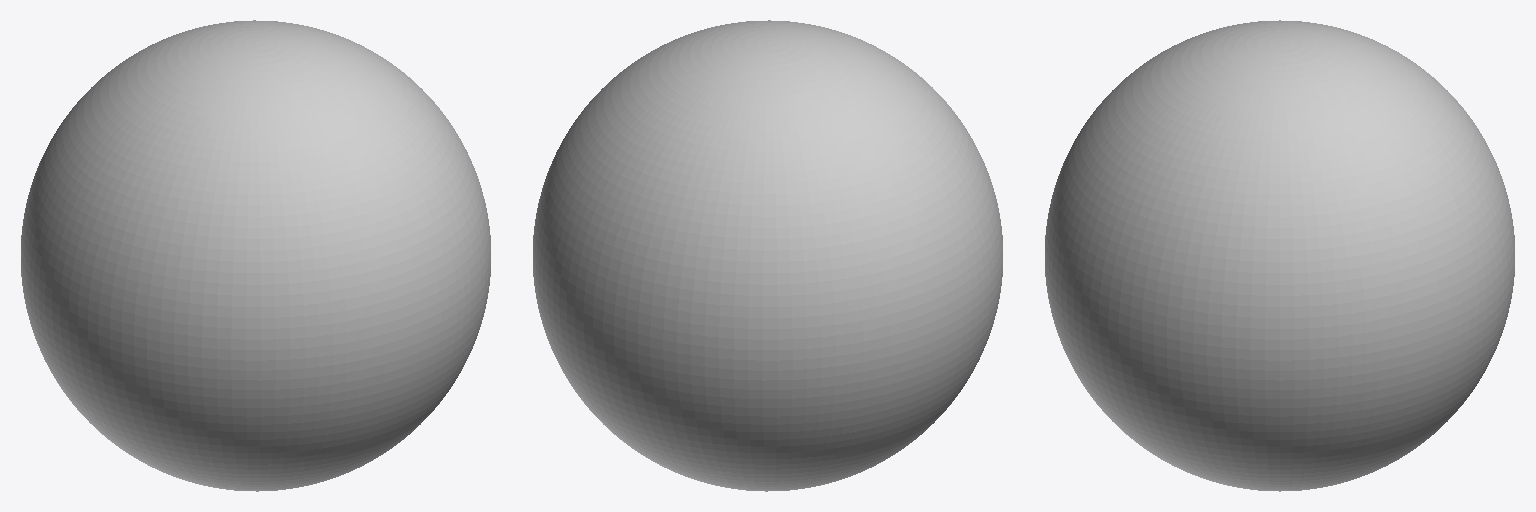
File: Blue_planet.obj
3 views of the same model, side by side, from view 1: azimuth 30°, elevation 25°; view 2: azimuth 150°, elevation 25°; view 3: azimuth 270°, elevation 25° (orthographic).
Visible parts, largest first — view 1: Sphere_Sphere.001; view 2: Sphere_Sphere.001; view 3: Sphere_Sphere.001.
Boxes of the visible parts, x1=… form: Sphere_Sphere.001: x1=21, y1=20, x2=490, y2=491; Sphere_Sphere.001: x1=533, y1=20, x2=1002, y2=491; Sphere_Sphere.001: x1=1045, y1=20, x2=1514, y2=491.
Bounding box in the file's own units: 20 × 20.01 × 20.